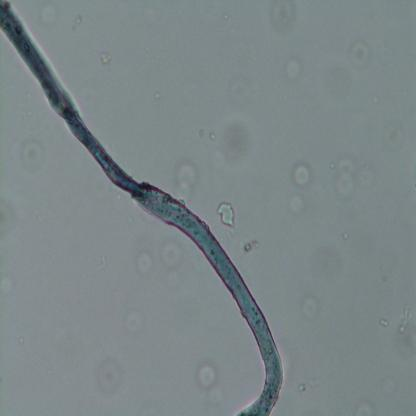Background material: (319, 138, 376, 198), (210, 119, 260, 170), (306, 242, 344, 286), (96, 353, 127, 395), (158, 241, 184, 291), (171, 159, 201, 199), (268, 1, 298, 35), (347, 38, 374, 72), (298, 290, 320, 323), (20, 141, 45, 168), (240, 236, 263, 264), (290, 162, 312, 190), (216, 199, 237, 228), (279, 57, 300, 86), (352, 392, 377, 416), (196, 362, 218, 388), (134, 245, 152, 274), (398, 304, 413, 336), (289, 193, 306, 217), (98, 50, 112, 66), (298, 383, 307, 397), (379, 318, 389, 328)
Microfibre: (0, 0, 283, 415)
